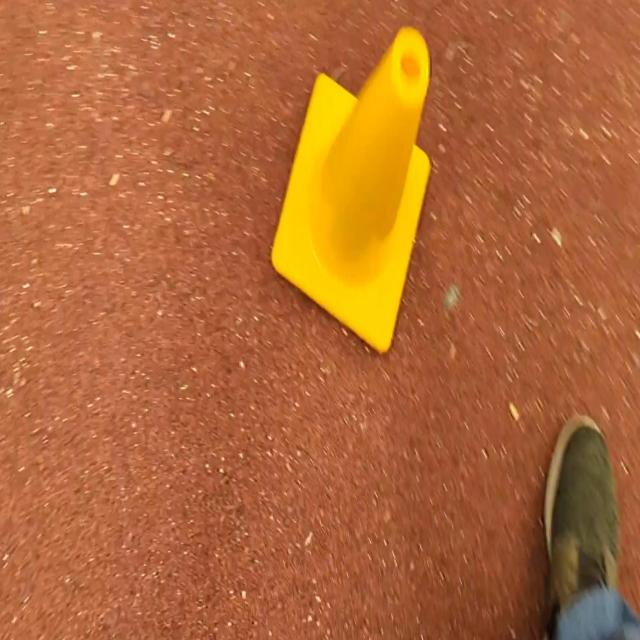frc_cone: (271, 29, 431, 358)
